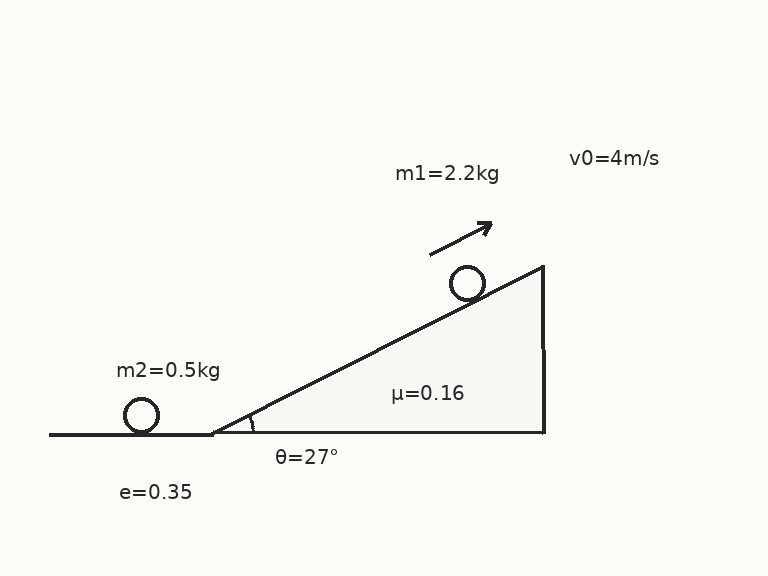ball: (447, 263, 487, 303), (121, 395, 161, 435)
ramp: (211, 263, 545, 435)
